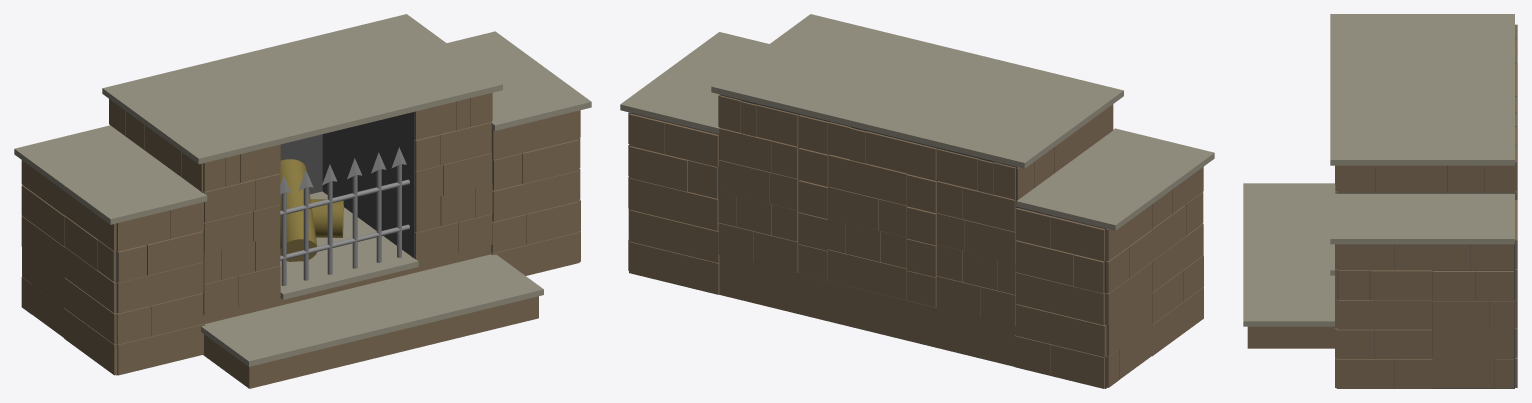
File: LibraryFireplace.fbx
3 views of the same model, side by side, from view 1: azimuth 30°, elevation 25°; view 2: azimuth 150°, elevation 25°; view 3: azimuth 270°, elevation 25° (orthographic). The views are drawn at different scales.
Visible parts, largest first — view 1: pCube94; view 2: pCube94; view 3: pCube94.
Part boxes in pixels (x1,y1,x2,y2): pCube94: (14, 14, 591, 388); pCube94: (620, 14, 1214, 388); pCube94: (1243, 14, 1517, 388).
Size of the model in its own units: 16.62 by 6.62 by 8.57.
